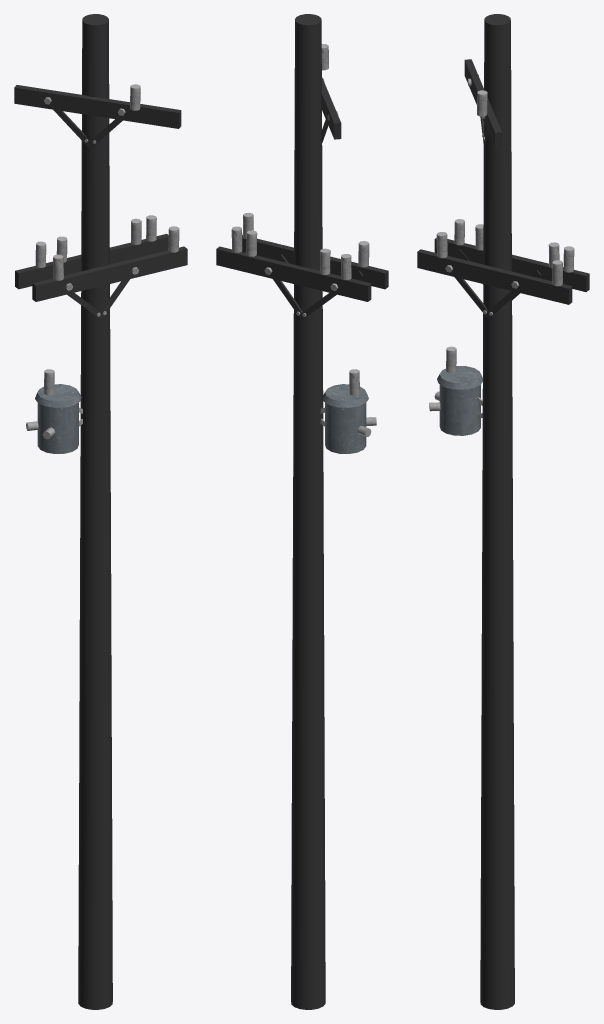
The model's file is prp_telephonepole.FBX.
The picture shows the model from 3 angles, left to right: view 1: azimuth 30°, elevation 25°; view 2: azimuth 150°, elevation 25°; view 3: azimuth 330°, elevation 25°; orthographic projection.
Parts seen in each view (by area): view 1: prp_telephonepole; view 2: prp_telephonepole; view 3: prp_telephonepole.
Part boxes in pixels (x1=…): prp_telephonepole: x1=14, y1=14, x2=187, y2=1009; prp_telephonepole: x1=216, y1=14, x2=388, y2=1009; prp_telephonepole: x1=417, y1=14, x2=589, y2=1009.
Size of what is drawn, in the model's own units: 193 by 153 by 1193.
